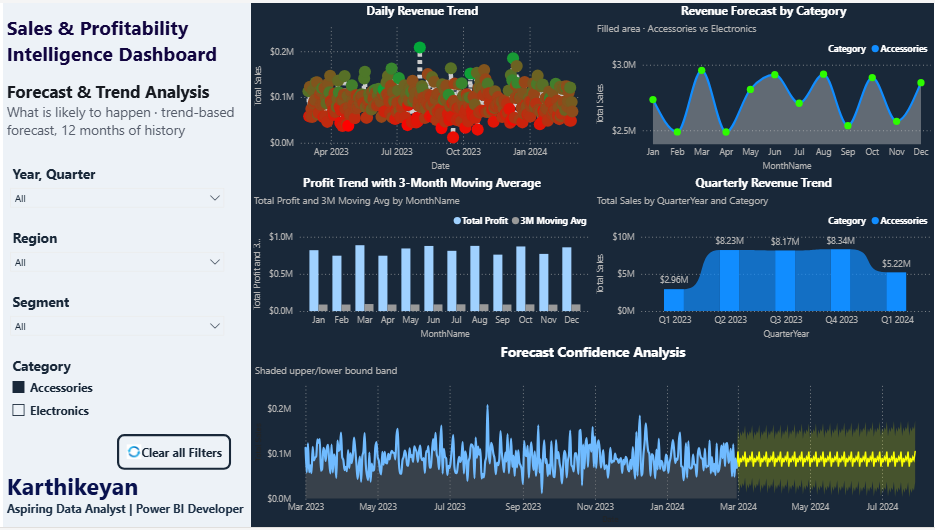

The page's visual inventory and layout, read from the dashboard file:
{"tool":"powerbi","page":{"name":"Forecast & Trend Analysis","canvas":[1280,720],"ordinal":4},"visuals":[{"type":"shape","box":[0,0,340.6,720],"z":0,"group":"g1"},{"type":"shape","box":[340.6,0,939.6,720],"z":1000,"group":"g1"},{"type":"textbox","box":[0,9,340.6,91.1],"z":2000,"group":"g1"},{"type":"slicer","fields":{"Values":["Calendar.Year","Calendar.Quarter"]},"box":[0,216.6,313.7,88.1],"z":3000,"group":"g1"},{"type":"slicer","fields":{"Values":["SalesData.Region"]},"box":[0,304.7,313.7,88.1],"z":4000,"group":"g1"},{"type":"slicer","fields":{"Values":["SalesData.Category"]},"box":[0,481,313.7,110.5],"z":5000,"group":"g1"},{"type":"slicer","fields":{"Values":["SalesData.Segment"]},"box":[0,392.9,313.7,88.1],"z":6000,"group":"g1"},{"type":"textbox","box":[0,636.3,339.1,83.7],"z":7000,"group":"g1"},{"type":"actionButton","box":[156.8,591.5,156.8,49.3],"z":8000,"group":"g1"},{"type":"textbox","box":[0,100.1,340.6,116.5],"z":9000,"group":"g1"},{"type":"lineChart","title":"Daily Revenue Trend","fields":{"Y":["SalesData.Total Sales"],"Category":["Calendar.Date"]},"box":[340.6,0,470.5,236],"z":10000,"group":"g1"},{"type":"areaChart","title":"Revenue Forecast by Category","fields":{"Category":["Calendar.MonthName"],"Y":["SalesData.Total Sales"],"Series":["SalesData.Category"]},"box":[811.1,0,469,236],"z":11000,"group":"g1"},{"type":"clusteredColumnChart","title":"Profit Trend with 3-Month Moving Average","fields":{"Category":["Calendar.MonthName"],"Y":["SalesData.Total Profit","SalesData.3M Moving Avg"]},"box":[339.1,236,472,230],"z":12000,"group":"g1"},{"type":"lineChart","title":"Forecast Confidence Analysis","fields":{"Category":["Calendar.Date"],"Y":["SalesData.Total Sales"]},"box":[340.6,466.1,939.6,253.9],"z":13000,"group":"g1"},{"type":"ribbonChart","title":"Quarterly Revenue Trend","fields":{"Category":["Calendar.QuarterYear"],"Y":["SalesData.Total Sales"],"Series":["SalesData.Category"]},"box":[811.1,236,469,230],"z":14000,"group":"g1"},{"type":"group","id":"g1","title":"Group 1","box":[0,0,1280.2,720],"z":14001}]}

Visuals, with their boxes in screenshot pixels (x1, y1, x2, y2), scaled from the page's 1280x720 canvas onto the 935x530 screenshot:
shape: <region>0, 0, 249, 529</region>
shape: <region>249, 0, 934, 529</region>
textbox: <region>0, 7, 249, 74</region>
slicer - Calendar.Year x Calendar.Quarter: <region>0, 159, 229, 224</region>
slicer - SalesData.Region: <region>0, 224, 229, 289</region>
slicer - SalesData.Category: <region>0, 354, 229, 435</region>
slicer - SalesData.Segment: <region>0, 289, 229, 354</region>
textbox: <region>0, 468, 248, 529</region>
actionButton: <region>115, 435, 229, 472</region>
textbox: <region>0, 74, 249, 159</region>
"Daily Revenue Trend" lineChart: <region>249, 0, 592, 174</region>
"Revenue Forecast by Category" areaChart: <region>592, 0, 934, 174</region>
"Profit Trend with 3-Month Moving Average" clusteredColumnChart: <region>248, 174, 592, 343</region>
"Forecast Confidence Analysis" lineChart: <region>249, 343, 934, 529</region>
"Quarterly Revenue Trend" ribbonChart: <region>592, 174, 934, 343</region>
"Group 1" group: <region>0, 0, 934, 529</region>
